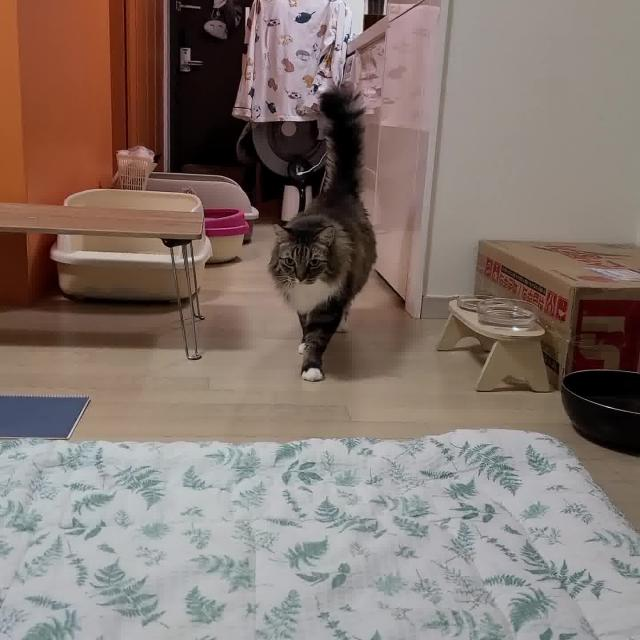cat: (246, 68, 400, 406)
